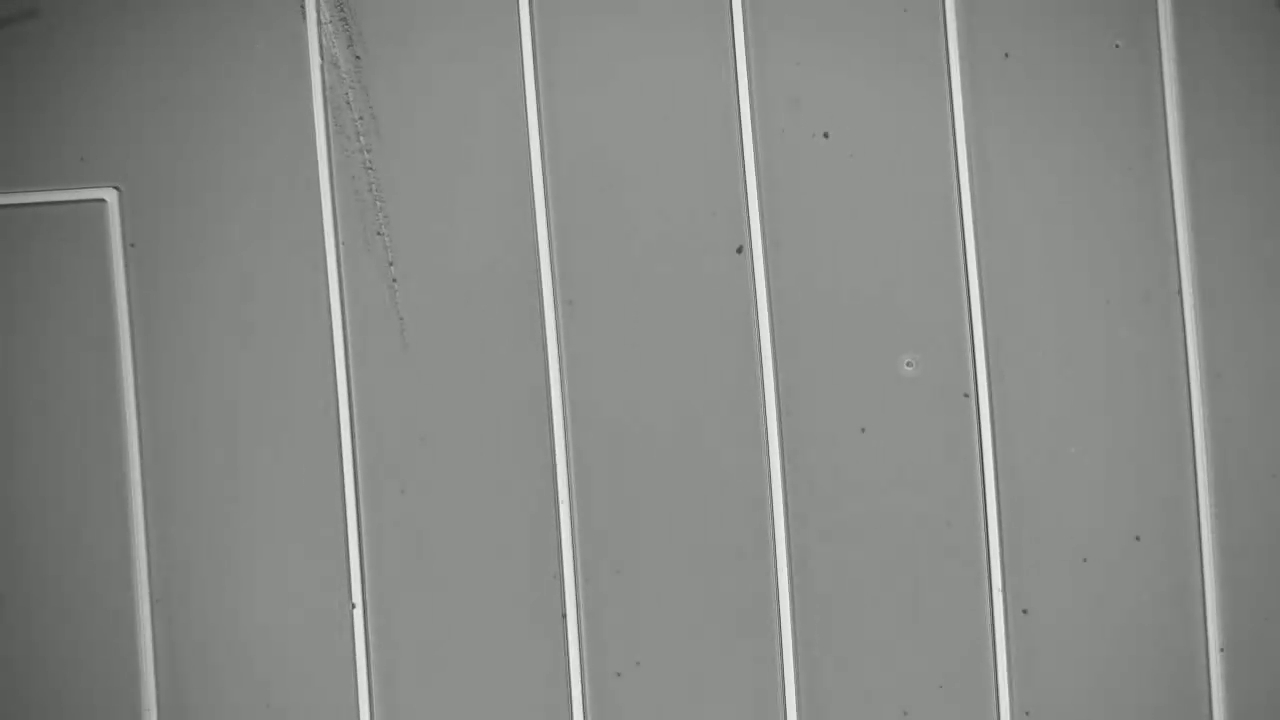scratch: (314, 1, 402, 337)
